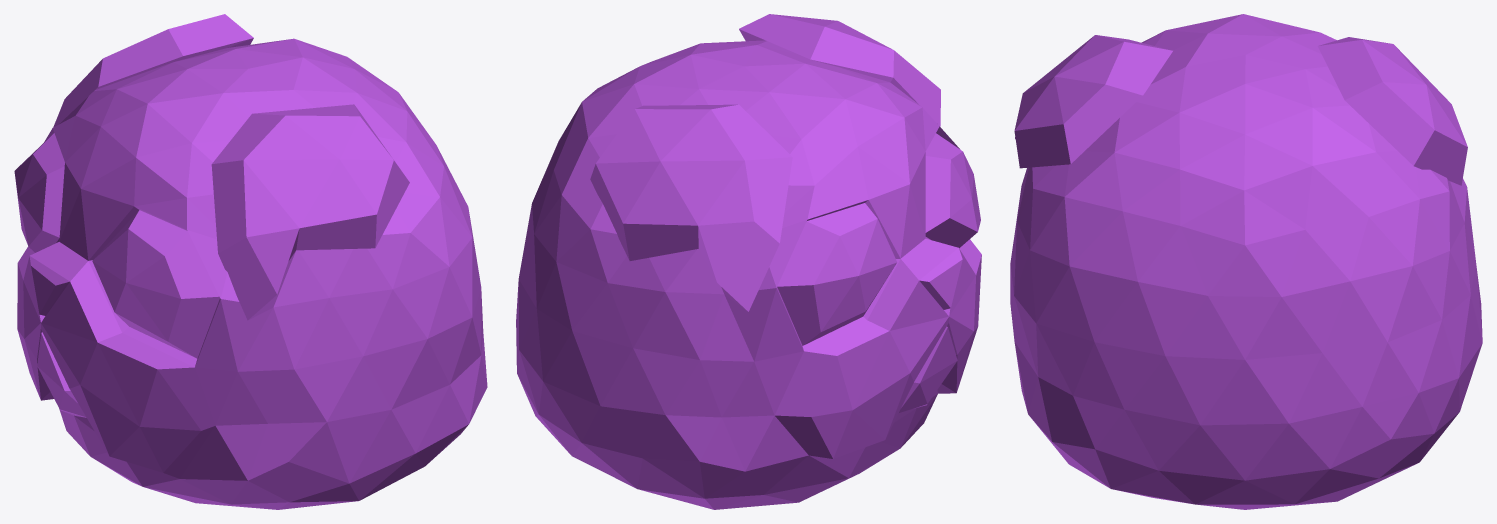
File: pug.fbx
3 renders of one model, left to right at view 1: azimuth 30°, elevation 25°; view 2: azimuth 150°, elevation 25°; view 3: azimuth 270°, elevation 25°, orthographic. The views are drawn at different scales.
Visible parts, largest first — view 1: Icosphere.001; view 2: Icosphere.001; view 3: Icosphere.001.
Boxes of the visible parts, left/top/right/bottom form: Icosphere.001: left=14, top=14, right=487, bottom=509; Icosphere.001: left=516, top=14, right=981, bottom=509; Icosphere.001: left=1010, top=14, right=1482, bottom=509.
Size of the model in its own units: 144 by 140 by 143.
